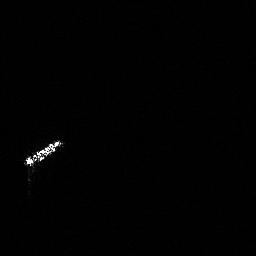ship: (20, 136, 68, 170)
